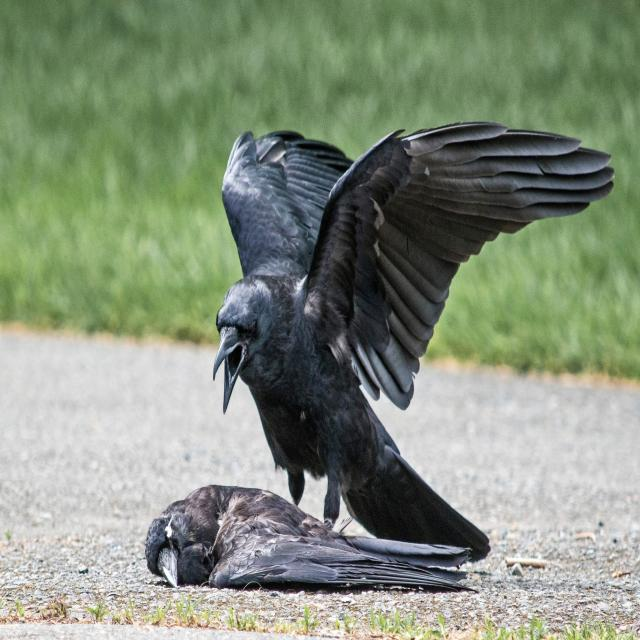crow: (184, 274, 393, 431), (120, 486, 220, 592)
